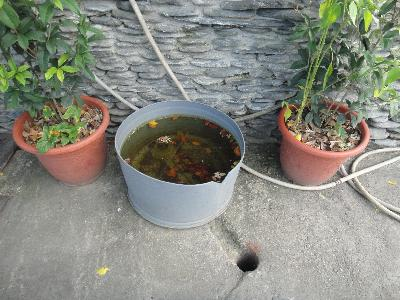bucket: (114, 99, 247, 229)
